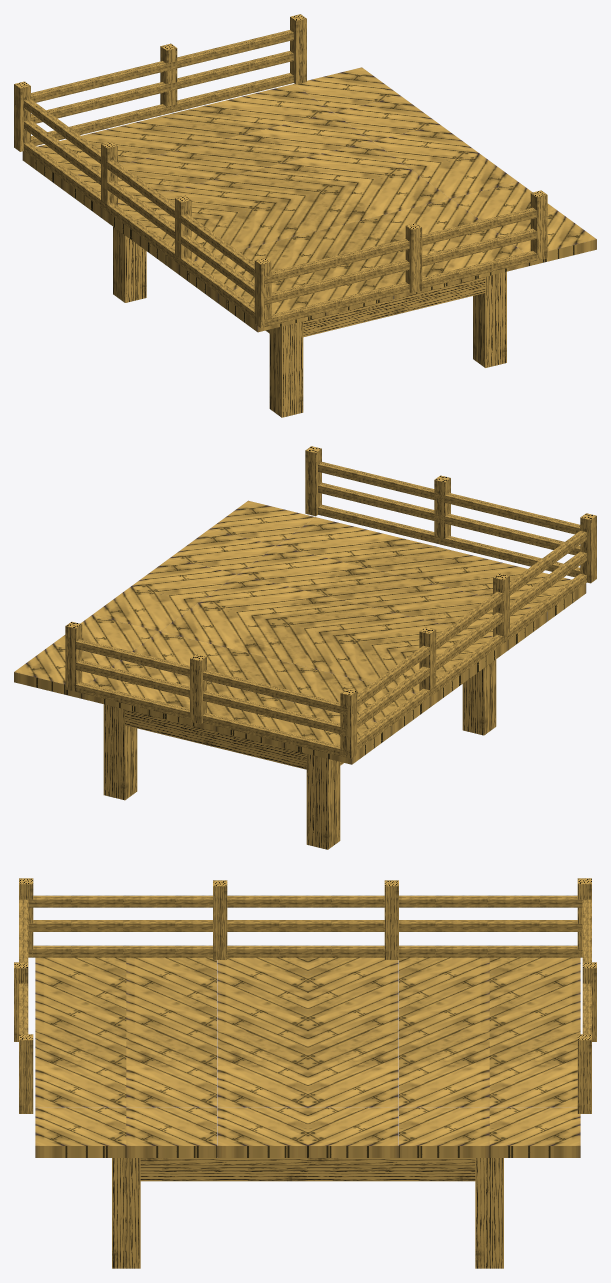
Rendered from PierKit_PierAlley.fbx.
3 views of the same model, one above another, from view 1: azimuth 30°, elevation 25°; view 2: azimuth 150°, elevation 25°; view 3: azimuth 270°, elevation 25° (orthographic). The views are drawn at different scales.
Parts seen in each view (by area): view 1: PierAlley; view 2: PierAlley; view 3: PierAlley.
Boxes of the visible parts, bbox=[...] form: PierAlley: bbox=[14, 14, 596, 417]; PierAlley: bbox=[14, 446, 596, 849]; PierAlley: bbox=[14, 878, 596, 1268].
Size of the model in its own units: 506 by 278 by 642.
Materials: 1 (1 with a texture image).
